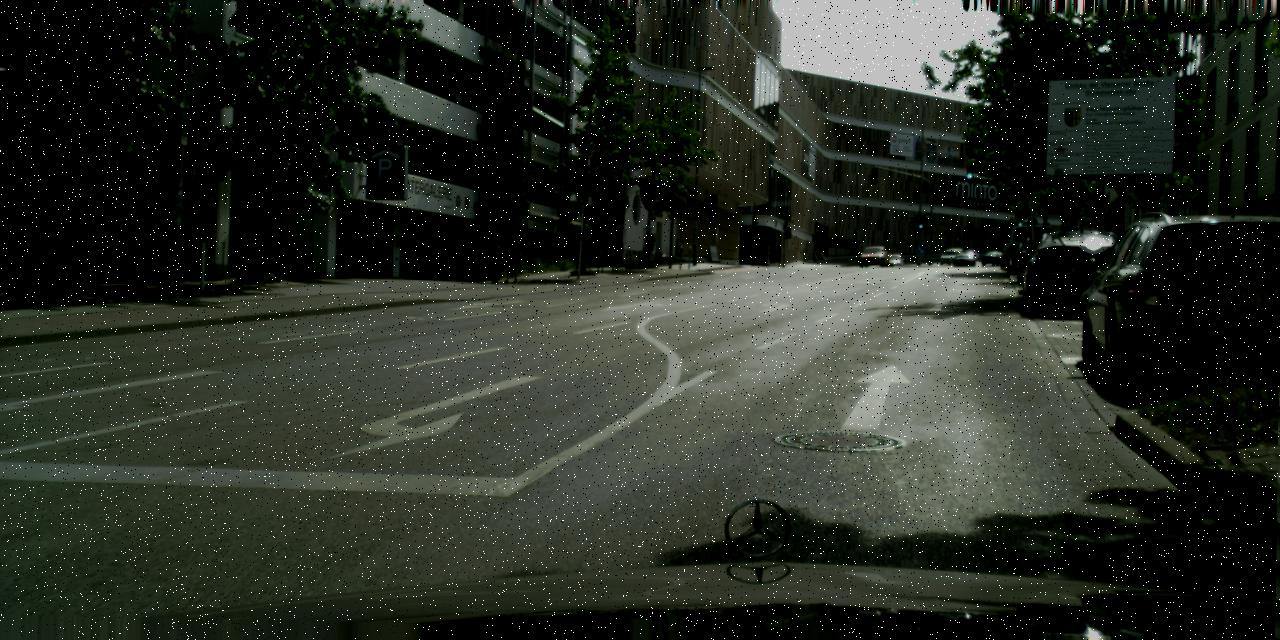ped: (485, 235, 504, 282), (502, 238, 520, 282)
